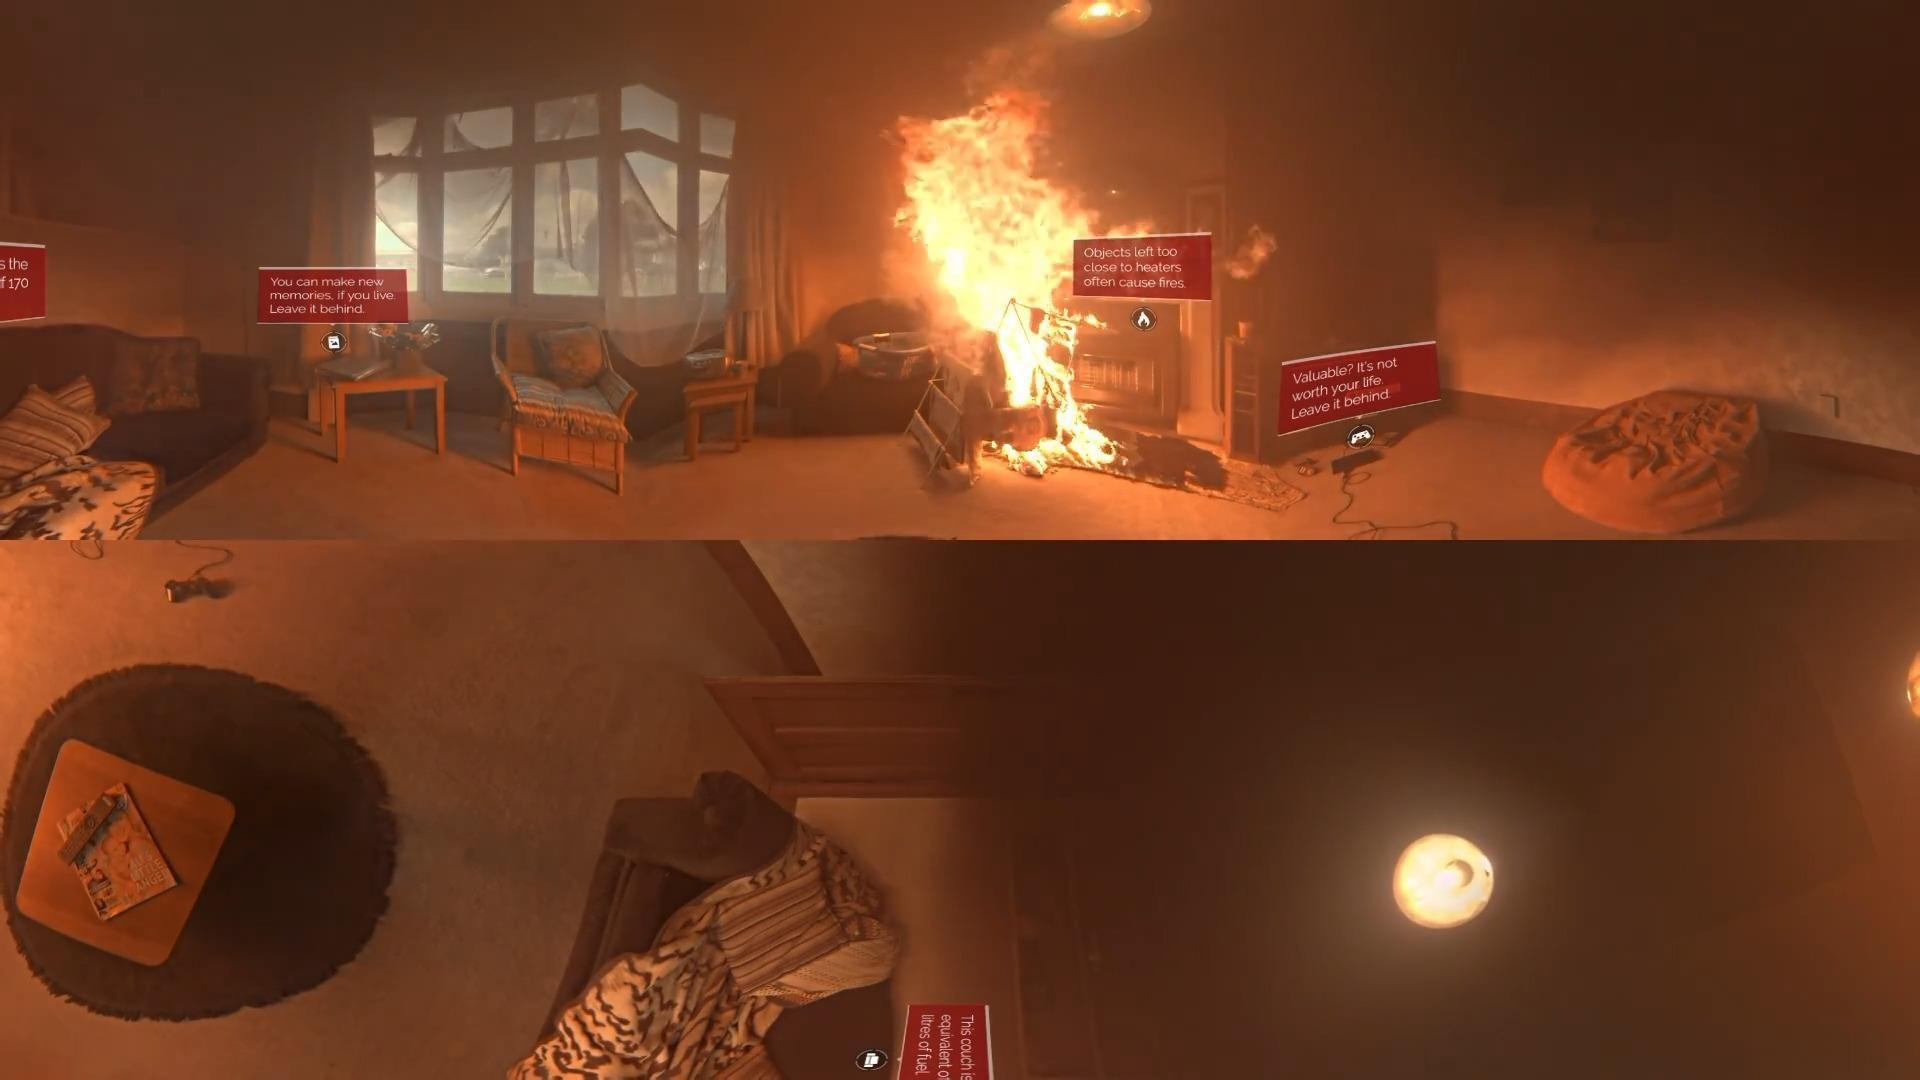fire: (890, 71, 1104, 402)
